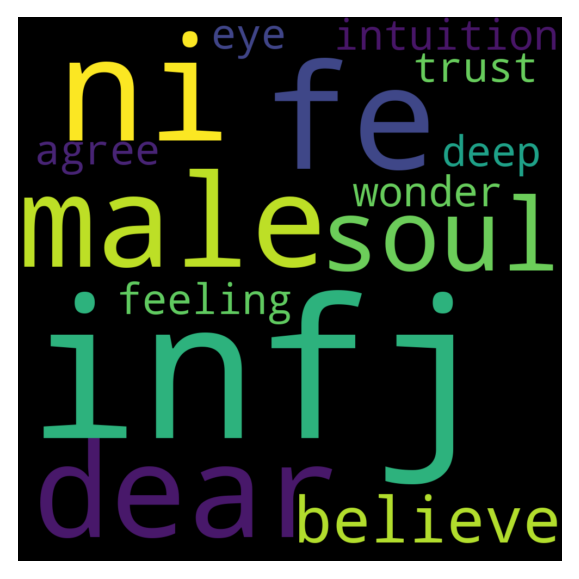

This screenshot's page, from the dashboard's own definition file:
{"tool":"tableau","page":{"name":"Dashboard 1","canvas":[1000,800],"ordinal":0},"visuals":[{"type":"worksheet","title":"Topics","mark":"Automatic","box":[74,14,886,777]},{"type":"worksheet","title":"Topics","mark":"Automatic","param":"[federated.0f70d2m07pqro519ml5wd1i6v16a].[none:type:nk]","box":[10,18,72,40]}]}

Visuals, with their boxes in screenshot pixels (x1, y1, x2, y2):
"Topics" worksheet: pyautogui.locateOnScreen(17, 15, 561, 491)
"Topics" worksheet: pyautogui.locateOnScreen(0, 17, 22, 42)
